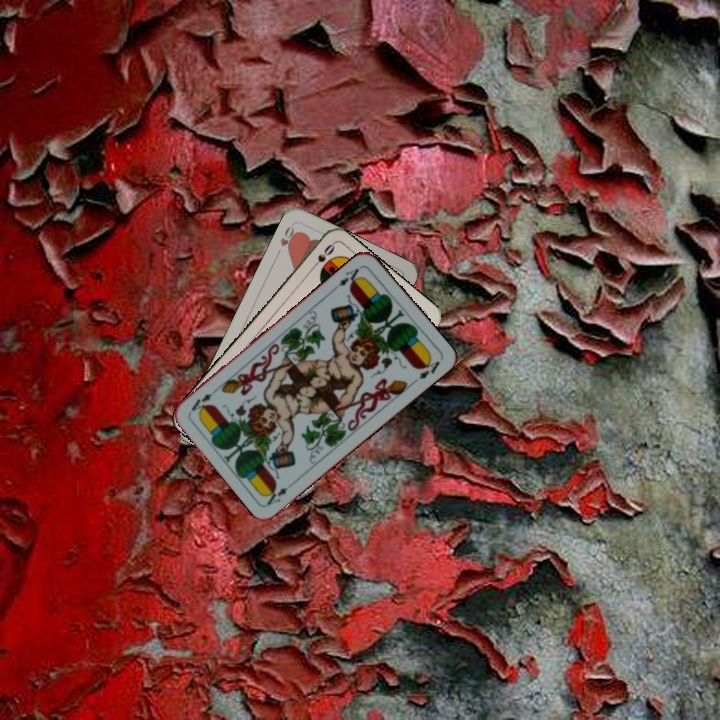EA: (262, 477, 298, 508), (330, 264, 364, 293)
HO: (276, 222, 300, 254)
SO: (306, 240, 337, 274)
